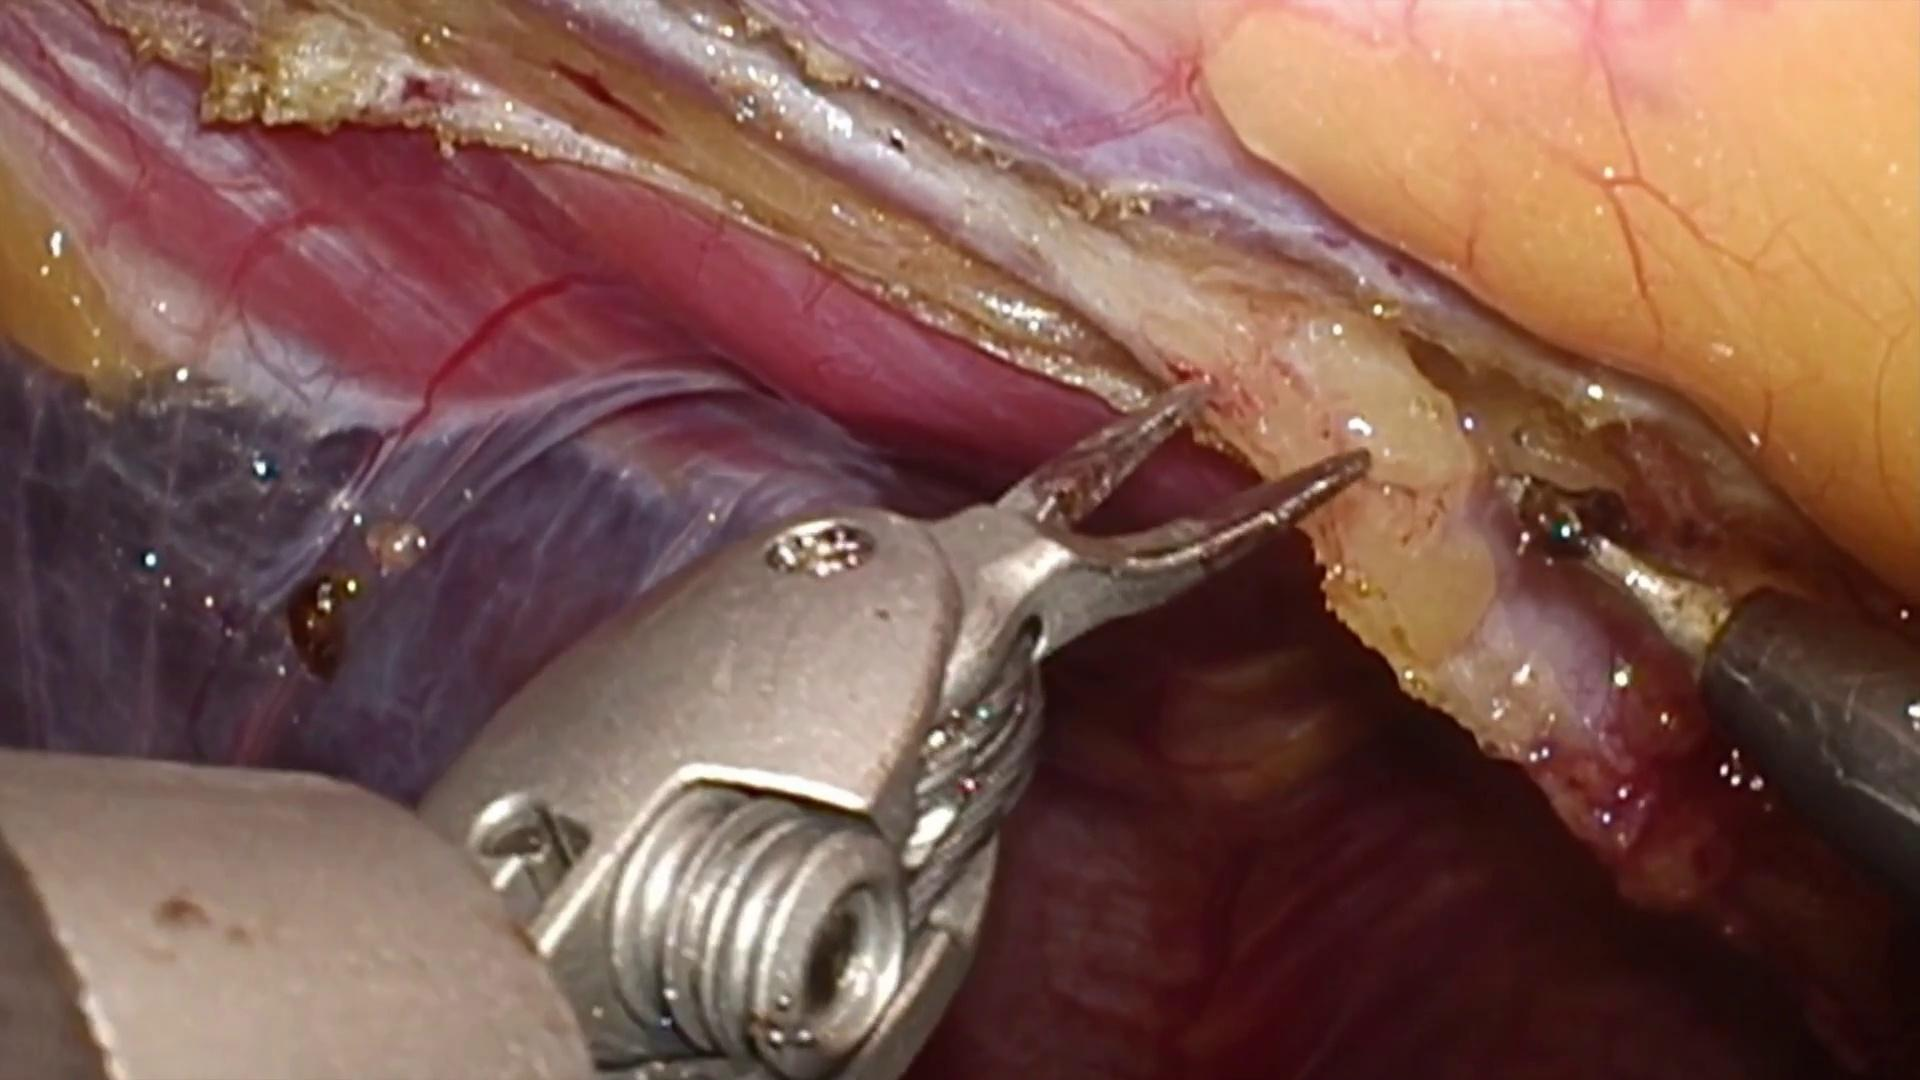Cautery_Spatula: (1495, 464, 1920, 943)
Debakey: (920, 355, 1374, 676)
